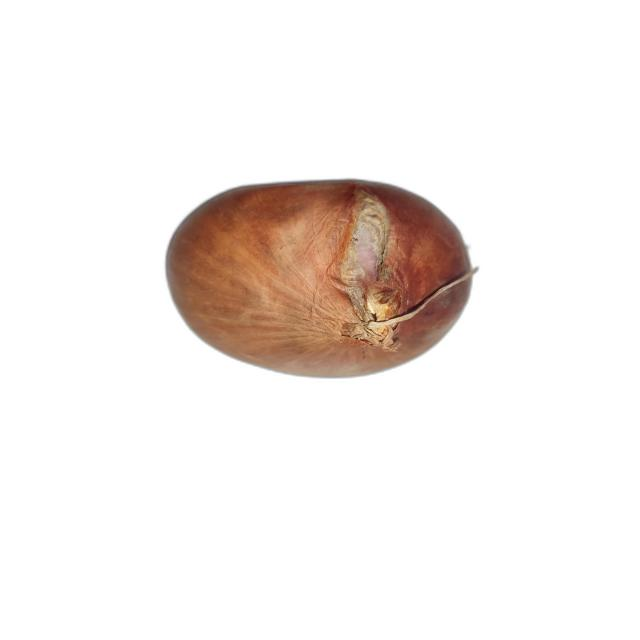onion: (165, 178, 477, 380)
